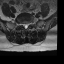CCS_normal: (25, 21, 26, 31)
LFS_normal: (28, 20, 30, 26)
LLS_normal: (26, 21, 28, 29)
RFS_stenosis: (21, 21, 23, 27)
RLS_normal: (23, 21, 24, 29)
